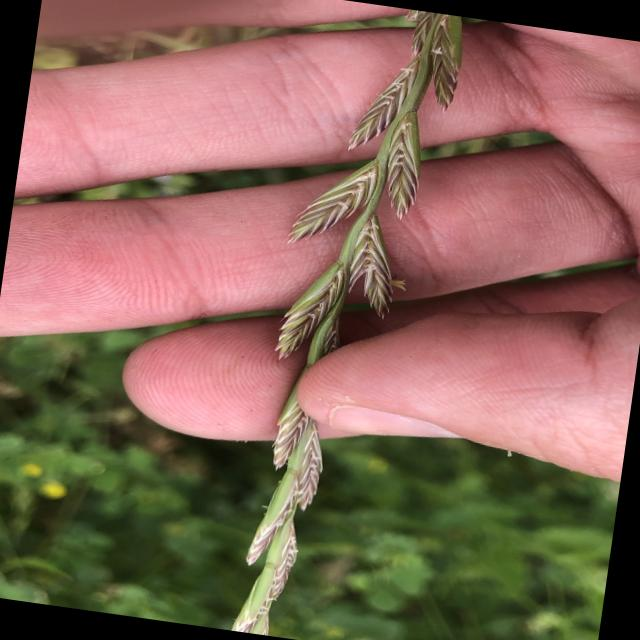Lolium: (225, 0, 475, 640)
